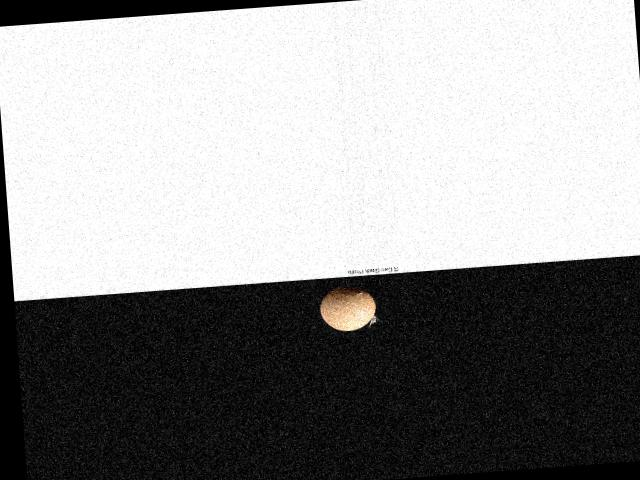egg: (318, 284, 376, 332)
